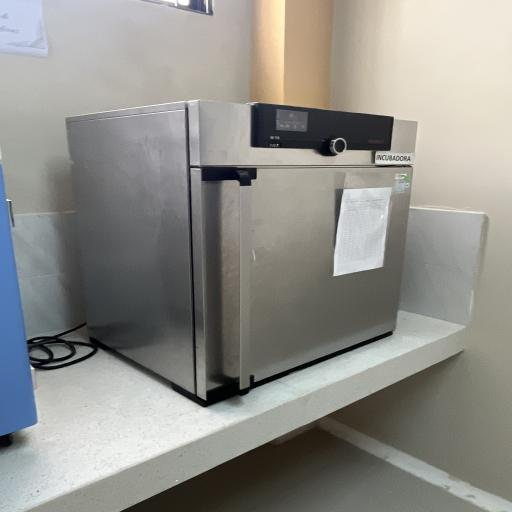Incubadora: (48, 90, 426, 411)
